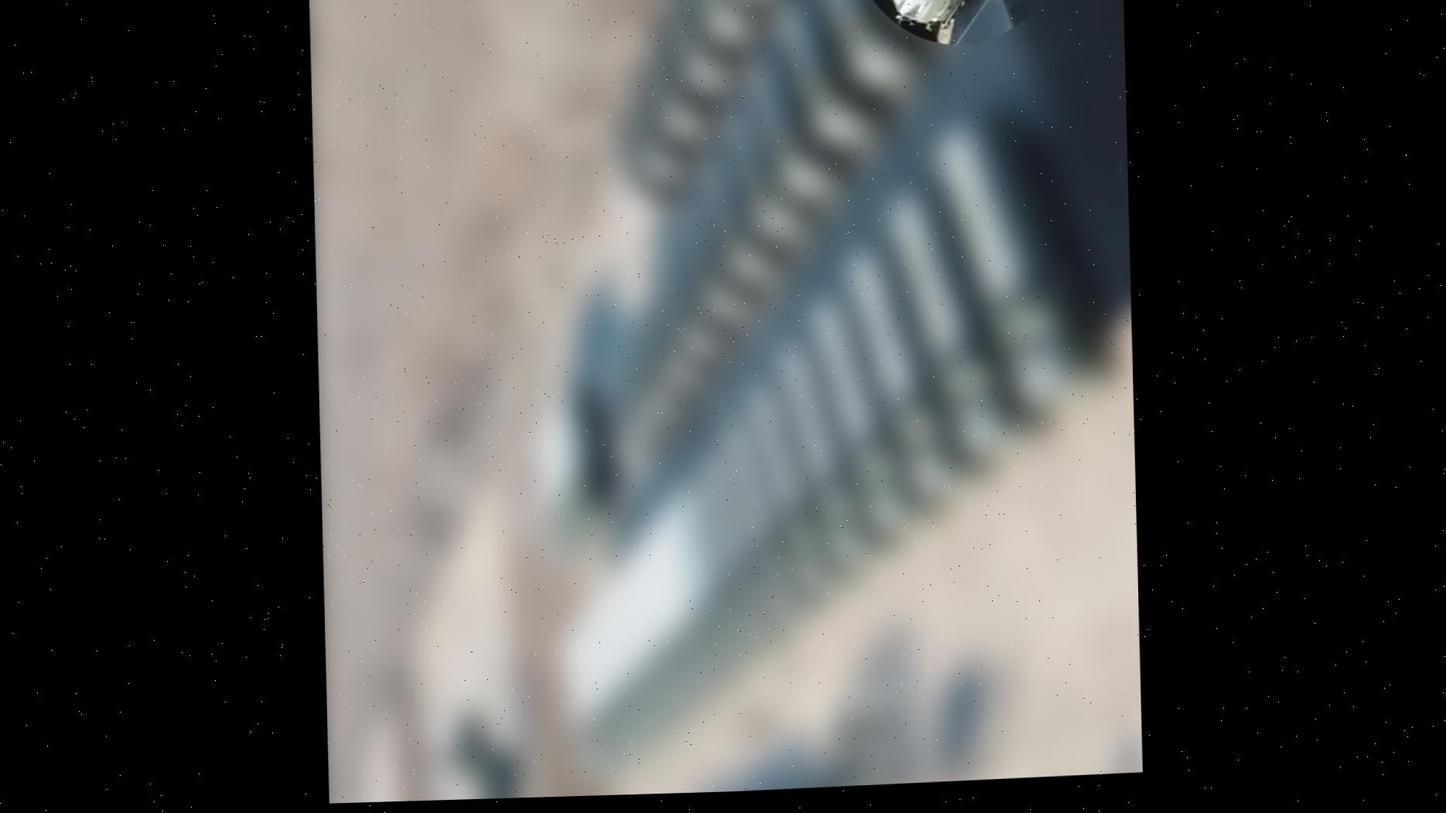truck: (850, 0, 979, 33)
